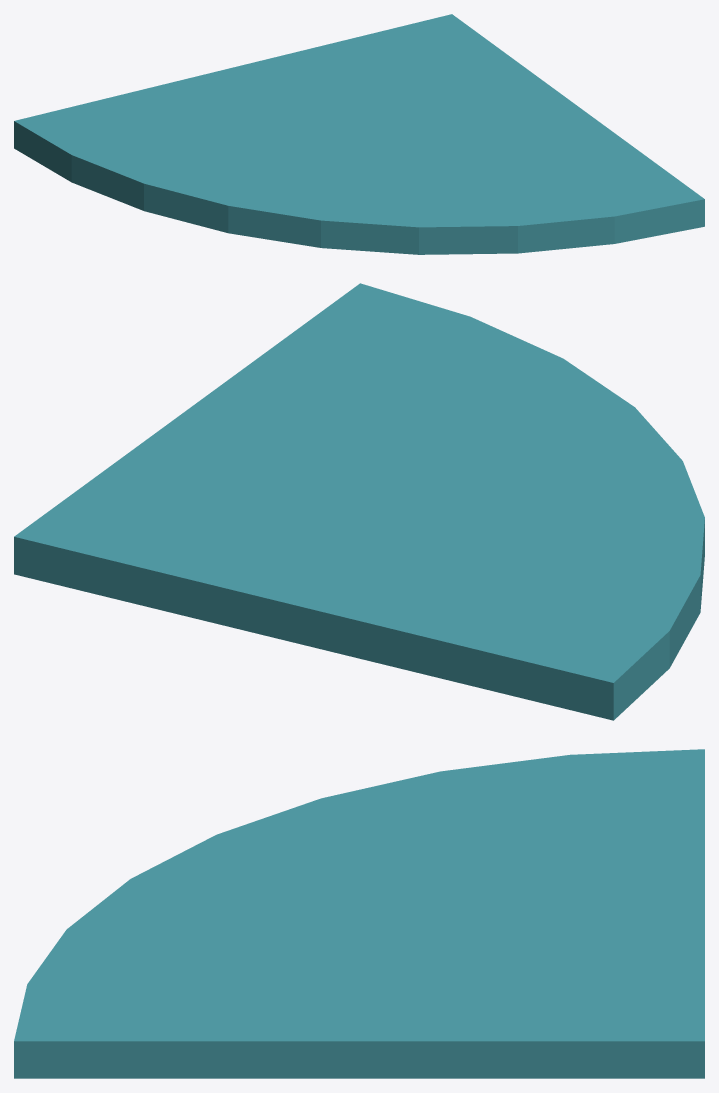
The model's file is W08_Lake_Corner_R2.fbx.
3 renders of one model, top to bottom at view 1: azimuth 30°, elevation 25°; view 2: azimuth 150°, elevation 25°; view 3: azimuth 270°, elevation 25°, orthographic. The views are drawn at different scales.
Parts seen in each view (by area): view 1: W08_Lake_Corner_R2; view 2: W08_Lake_Corner_R2; view 3: W08_Lake_Corner_R2.
Boxes of the visible parts, bbox=[...] form: W08_Lake_Corner_R2: bbox=[14, 14, 704, 254]; W08_Lake_Corner_R2: bbox=[14, 283, 704, 720]; W08_Lake_Corner_R2: bbox=[14, 749, 704, 1078].
Bounding box in the file's own units: 2 × 0.12 × 2.
